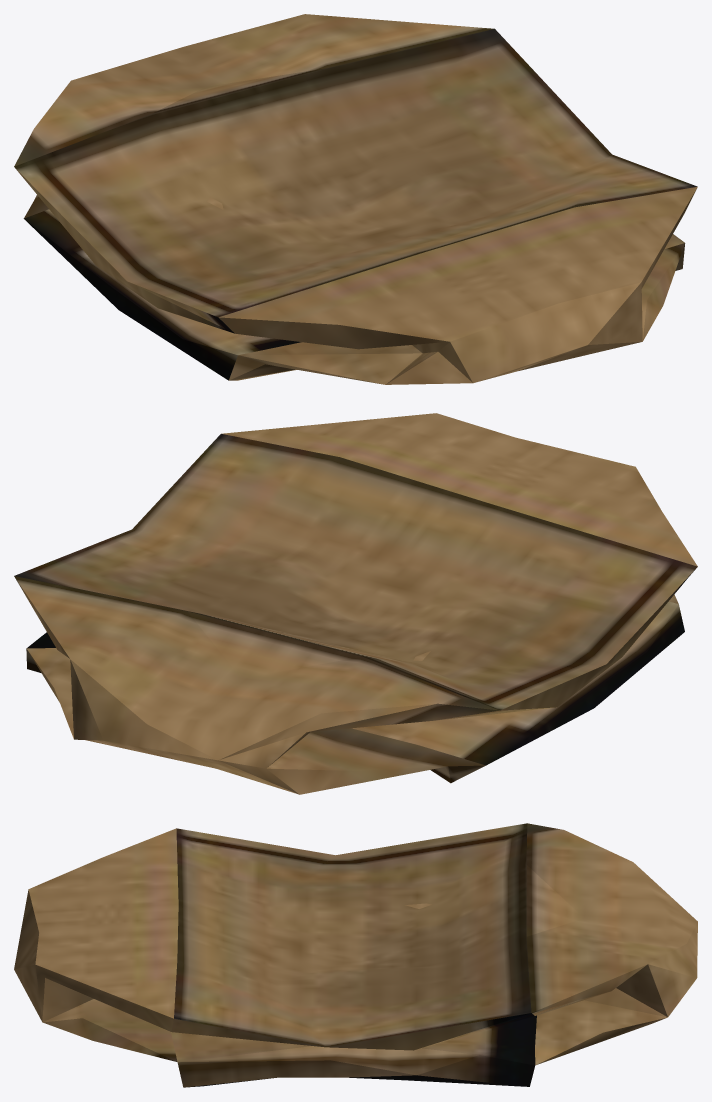
Rendered from box_flattened_lod1_web.glb.
The picture shows the model from 3 angles, top to bottom: view 1: azimuth 30°, elevation 25°; view 2: azimuth 150°, elevation 25°; view 3: azimuth 270°, elevation 25°; orthographic projection. The views are drawn at different scales.
Visible parts, largest first — view 1: BoxFlattened_Body; view 2: BoxFlattened_Body; view 3: BoxFlattened_Body.
Part boxes in pixels (x1,y1,x2,y2): BoxFlattened_Body: (14, 14, 697, 384); BoxFlattened_Body: (14, 413, 697, 794); BoxFlattened_Body: (14, 823, 697, 1087).
Bounding box in the file's own units: 0.3985 × 0.0886 × 0.56.
Materials: 1 (1 with a texture image).
